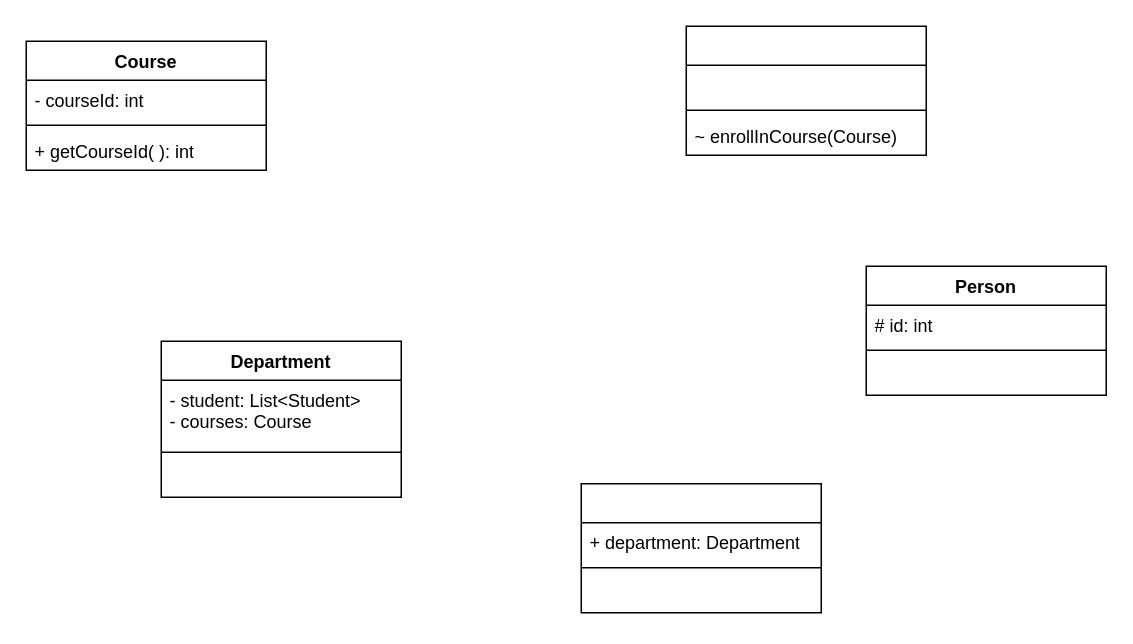
Image size: 1133x644. Some labels were removed from this diagram. Here are the shapes that lost their labels. From the top down, the box of each, then its label:
(685, 25, 926, 155): Student
(580, 482, 821, 613): Teacher
